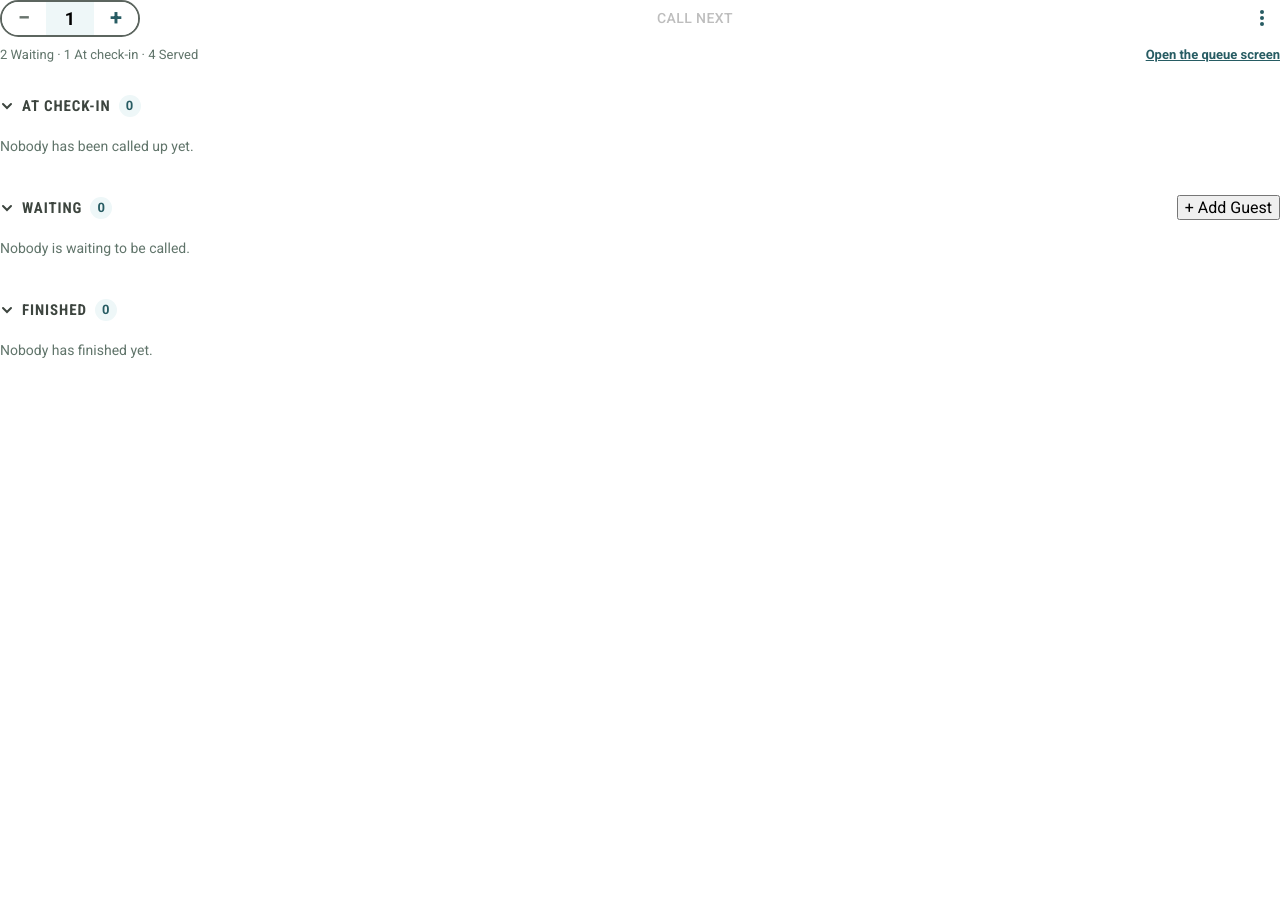
Test: QueueView › opens the manual guest form from the waiting heading
Click the button "+ Add Guest".
click(1228, 208)  # box top-left (1177, 195), bottom-right (1279, 220)
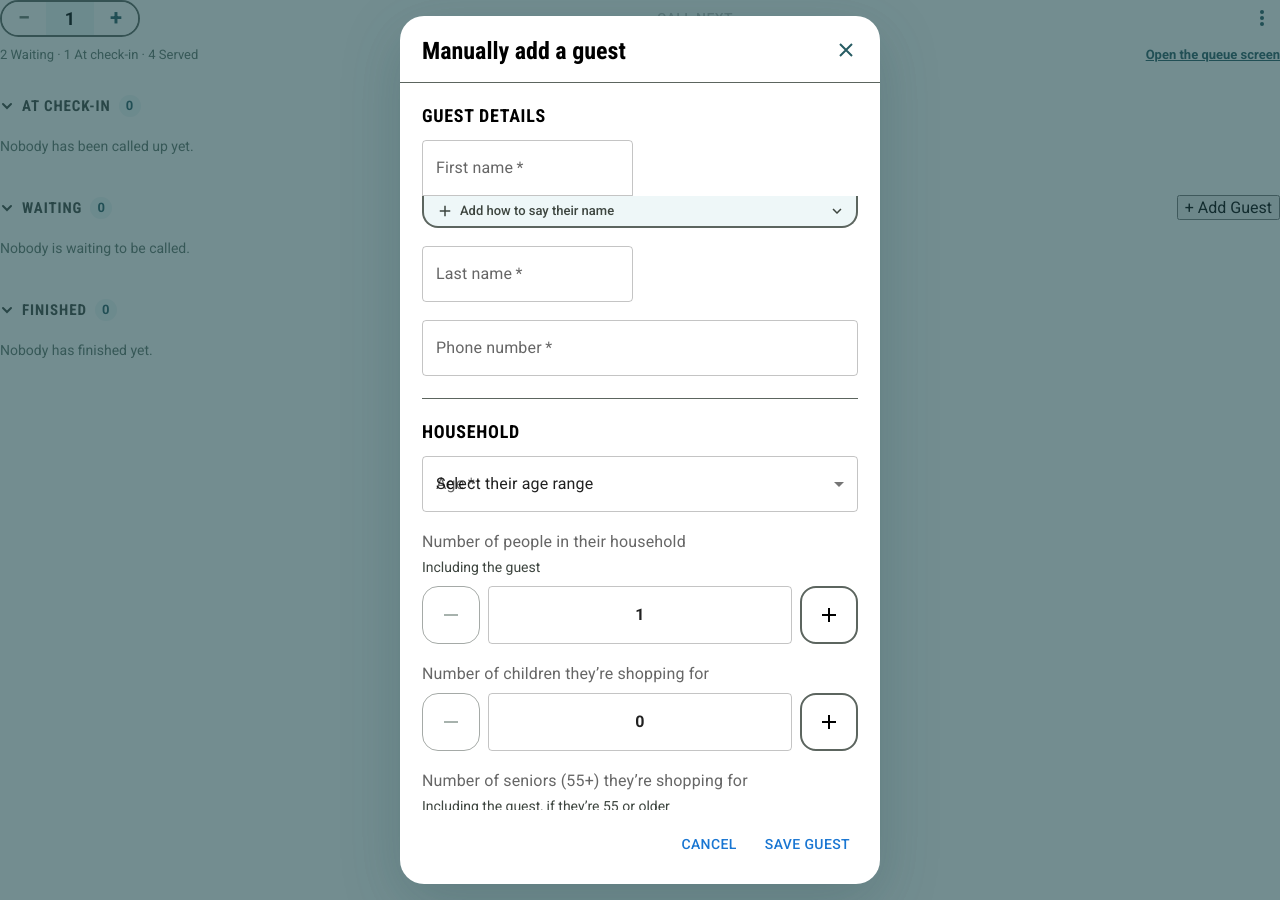
Check: the dialog shows "Manually add a guest", box top-left (422, 37), bottom-right (626, 65)
